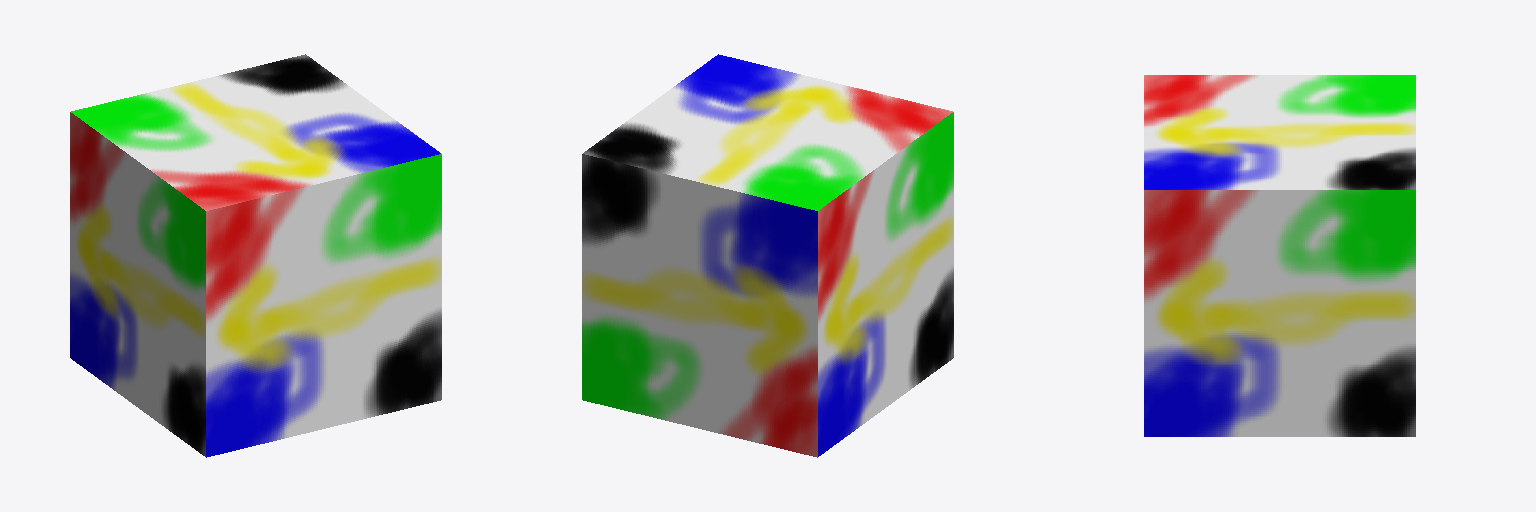
3 renders of one model, left to right at view 1: azimuth 30°, elevation 25°; view 2: azimuth 150°, elevation 25°; view 3: azimuth 270°, elevation 25°, orthographic.
Visible parts, largest first — view 1: Cube; view 2: Cube; view 3: Cube.
Part boxes in pixels (x1,y1,x2,y2): Cube: (70, 54, 441, 457); Cube: (582, 54, 953, 457); Cube: (1144, 75, 1415, 436).
Bounding box in the file's own units: 2 × 2 × 2.
1 materials, 1 textured.